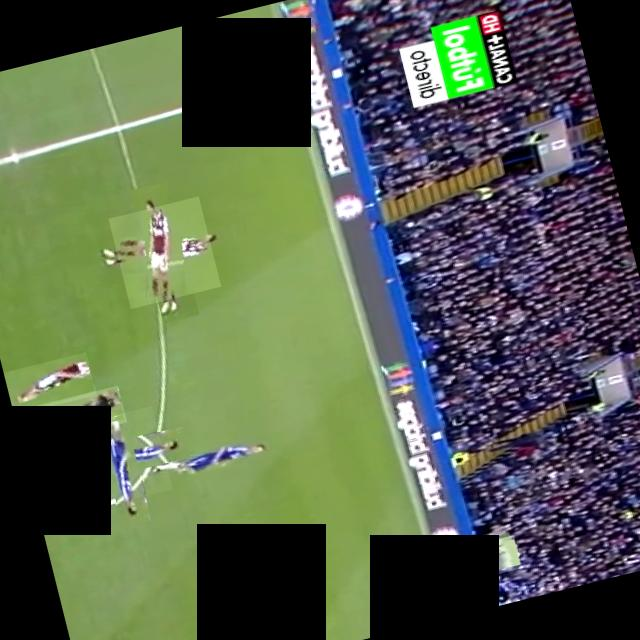referee: (12, 384, 126, 447), (419, 534, 522, 590)
soccer-player: (107, 195, 220, 308), (68, 404, 172, 508), (142, 425, 280, 487), (190, 50, 302, 106), (3, 351, 96, 414)
